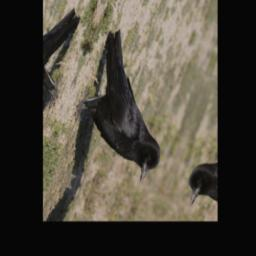Crow: (62, 23, 195, 188)
